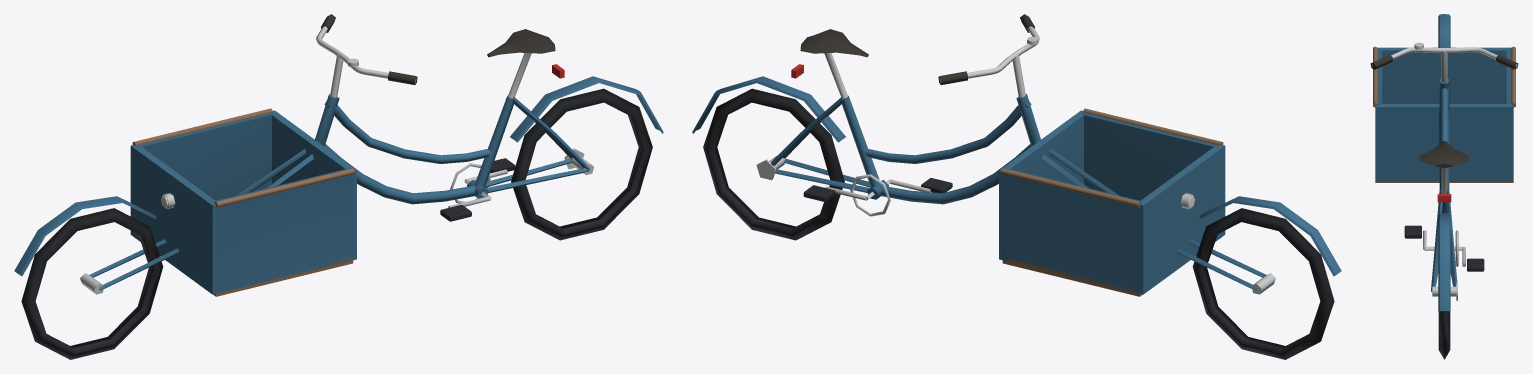
File: cargoBike.far.glb
3 views of the same model, side by side, from view 1: azimuth 30°, elevation 25°; view 2: azimuth 150°, elevation 25°; view 3: azimuth 270°, elevation 25° (orthographic). The views are drawn at different scales.
Parts seen in each view (by area): view 1: cargoBike; view 2: cargoBike; view 3: cargoBike.
Part boxes in pixels (box(x1,y1,x2,y2)): cargoBike: box(14, 14, 663, 359); cargoBike: box(692, 14, 1341, 359); cargoBike: box(1370, 14, 1518, 359).
Size of the model in its own units: 2.73 by 0.9882 by 0.6436.
